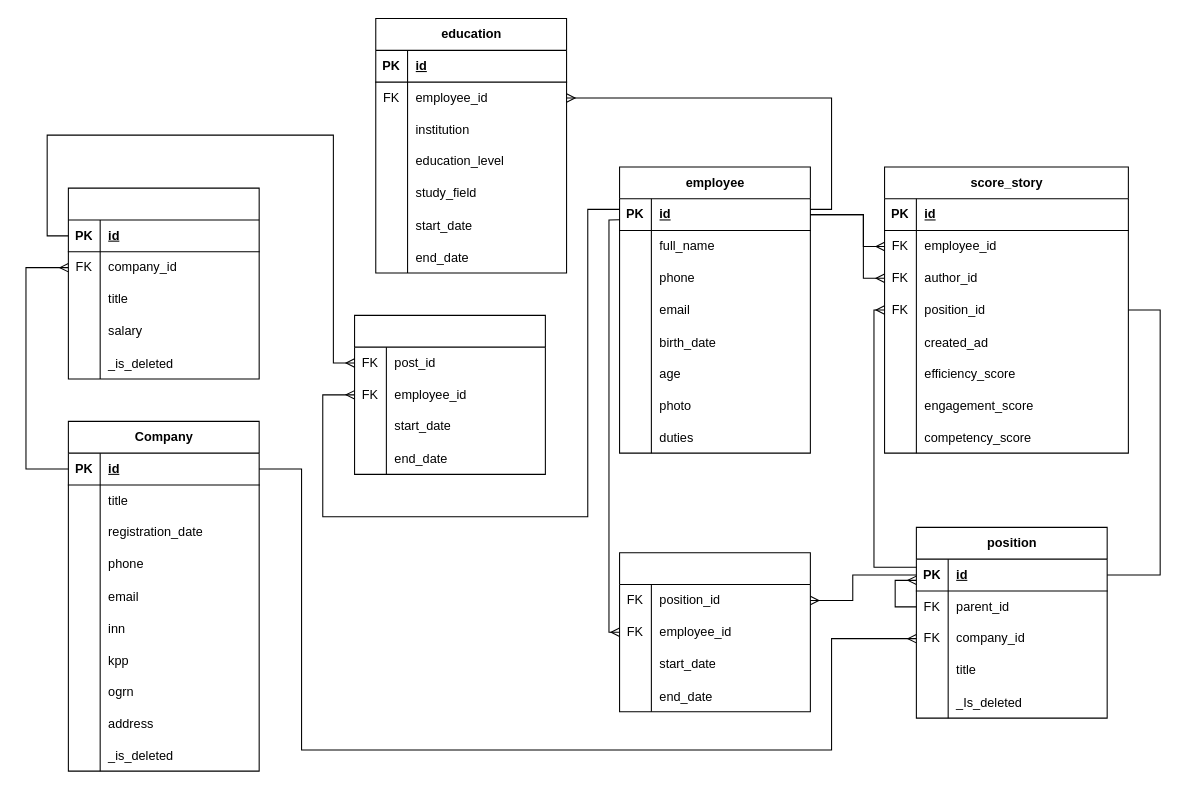
This 1180x790 diagram has some shape labels left out. Here are the shapes that lost their labels. From the top down, the box of each, then its label:
(67, 187, 259, 379): post
(354, 314, 545, 474): post_history
(619, 552, 810, 712): position_history
